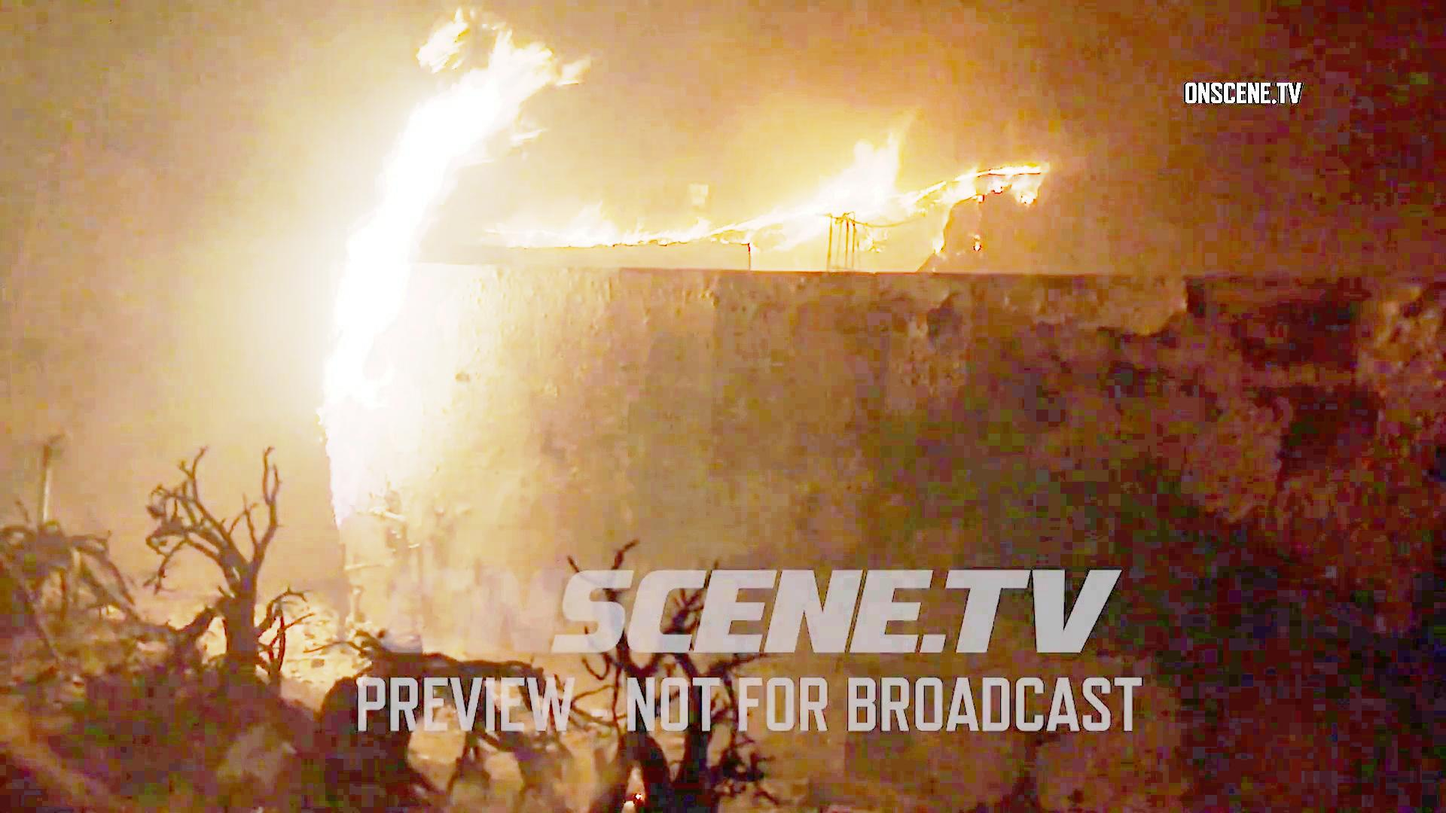fire: (329, 19, 543, 524), (744, 70, 904, 249)
